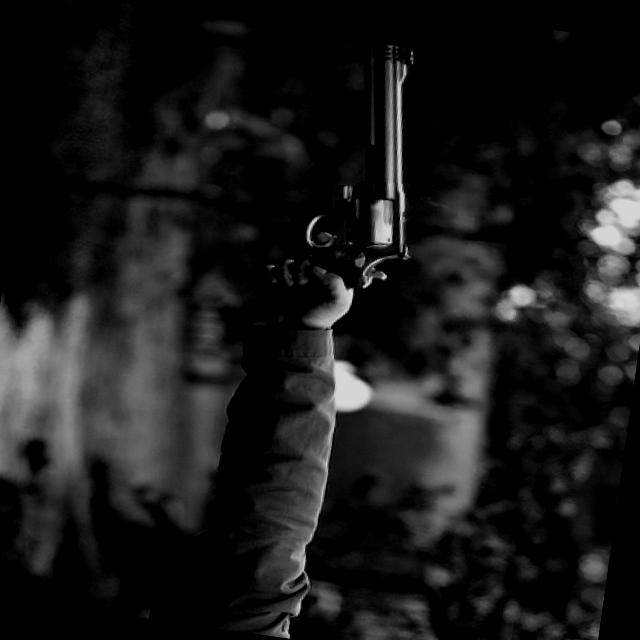handgun: (252, 30, 439, 316)
